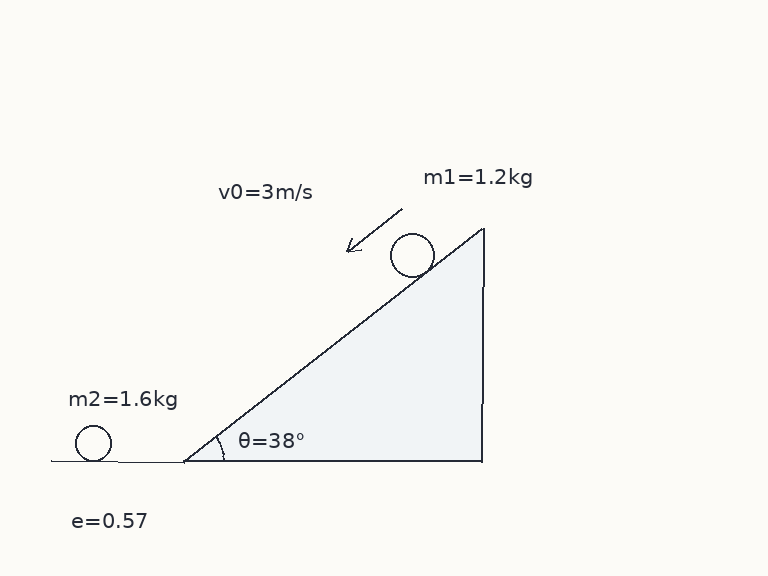ball: (388, 231, 436, 279), (73, 423, 113, 463)
ramp: (182, 226, 484, 463)
